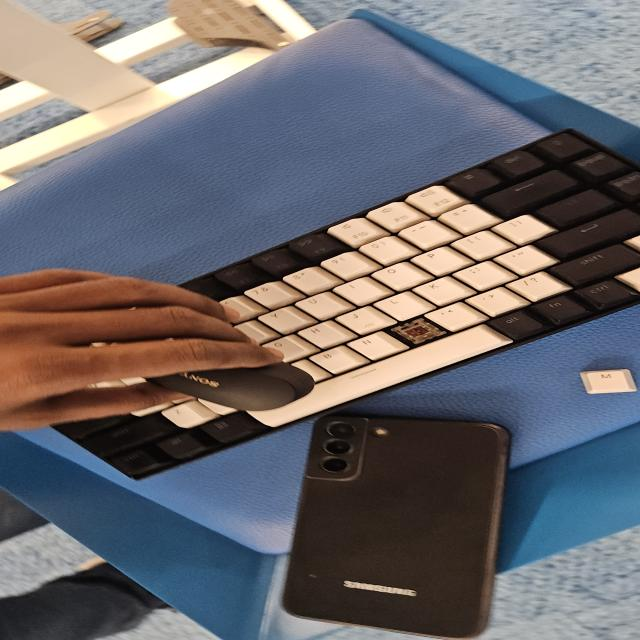C: (396, 323, 436, 340), (402, 321, 433, 339)
